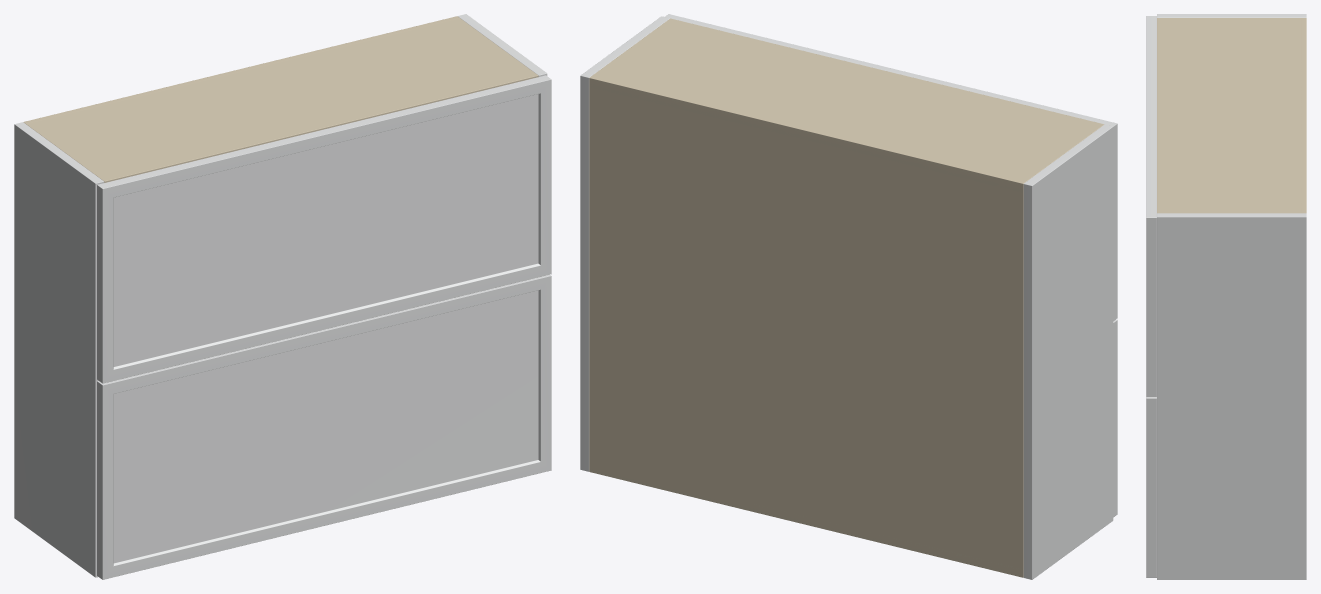
Rendered from oppein-ply-ssw-wbf3630.glb.
3 renders of one model, left to right at view 1: azimuth 30°, elevation 25°; view 2: azimuth 150°, elevation 25°; view 3: azimuth 270°, elevation 25°, orthographic. The views are drawn at different scales.
Visible parts, largest first — view 1: Door.001, Door, Cabinet top, Cabinet side, Cabinet back, Cabinet side.001; view 2: Cabinet back, Cabinet top, Cabinet side, Cabinet side.001, Door.001, Cabinet bottom, Door; view 3: Cabinet side.001, Cabinet top, Door.001, Door, Cabinet back, Cabinet side.
Part boxes in pixels (box(x1,y1,x2,y2)): Door.001: box(97, 75, 551, 383); Door: box(97, 274, 551, 579); Cabinet top: box(23, 18, 538, 182); Cabinet side: box(14, 122, 104, 577); Cabinet back: box(24, 16, 459, 124); Cabinet side.001: box(458, 14, 547, 76); Cabinet back: box(589, 75, 1026, 577); Cabinet top: box(589, 18, 1103, 192); Cabinet side: box(1023, 124, 1113, 579); Cabinet side.001: box(580, 16, 669, 471); Door.001: box(665, 14, 1117, 320); Cabinet bottom: box(589, 467, 1023, 577); Door: box(1113, 319, 1117, 517); Cabinet side.001: box(1157, 213, 1306, 579); Cabinet top: box(1157, 18, 1306, 213); Door.001: box(1146, 16, 1156, 396); Door: box(1146, 397, 1156, 577); Cabinet back: box(1300, 18, 1306, 213); Cabinet side: box(1157, 14, 1306, 17).
Size of the model in its own units: 0.9144 by 0.762 by 0.3048.
